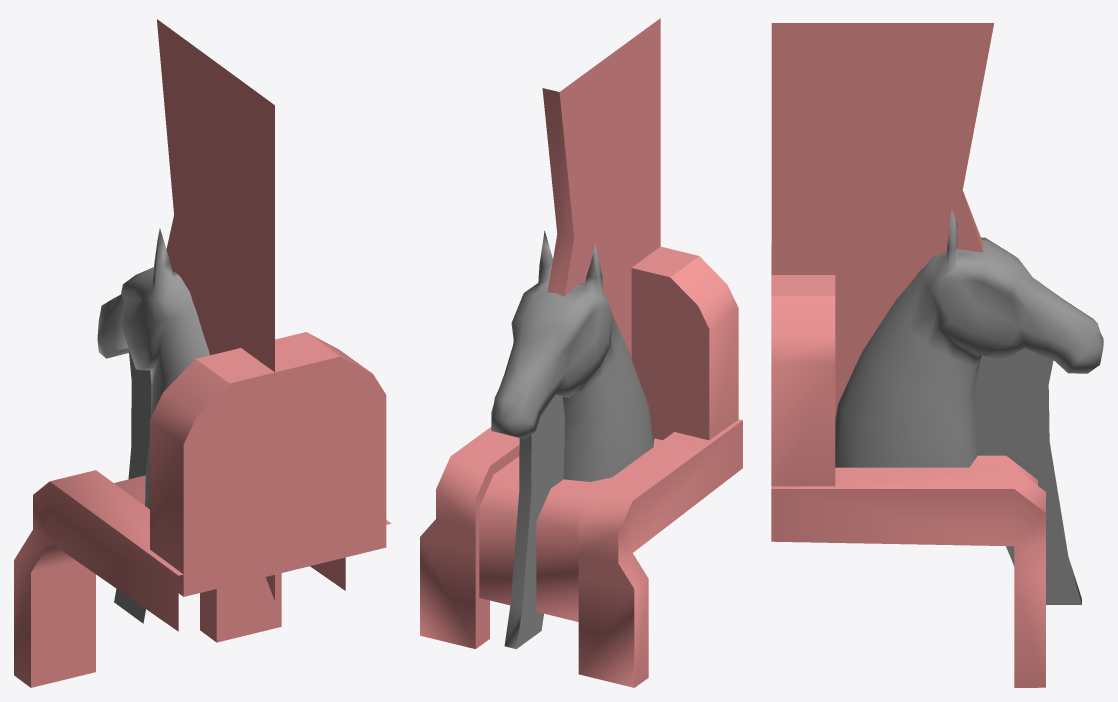
The model's file is SSQ_dungeon_S__SSQ_statue04.gltf.
3 renders of one model, left to right at view 1: azimuth 30°, elevation 25°; view 2: azimuth 150°, elevation 25°; view 3: azimuth 270°, elevation 25°, orthographic. The views are drawn at different scales.
Parts seen in each view (by area): view 1: SSQ_statue04; view 2: SSQ_statue04; view 3: SSQ_statue04.
Part boxes in pixels (bbox=[...]): SSQ_statue04: bbox=[14, 19, 391, 687]; SSQ_statue04: bbox=[420, 18, 742, 687]; SSQ_statue04: bbox=[771, 23, 1103, 687].
Bounding box in the file's own units: 0.7643 × 1.89 × 0.9305.
